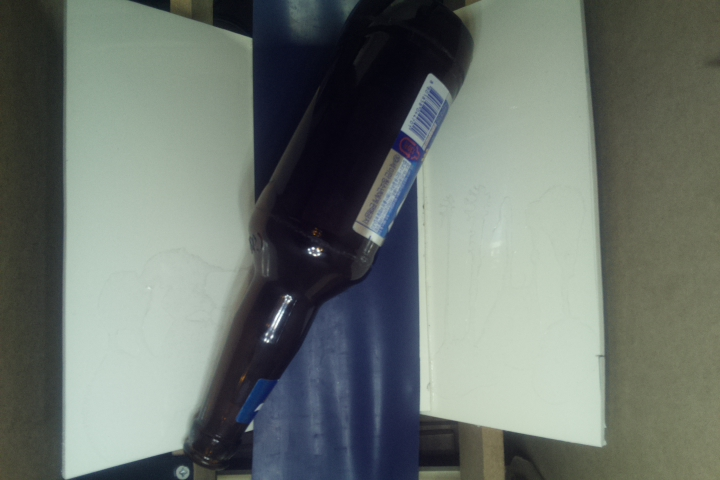makju: (181, 1, 476, 472)
